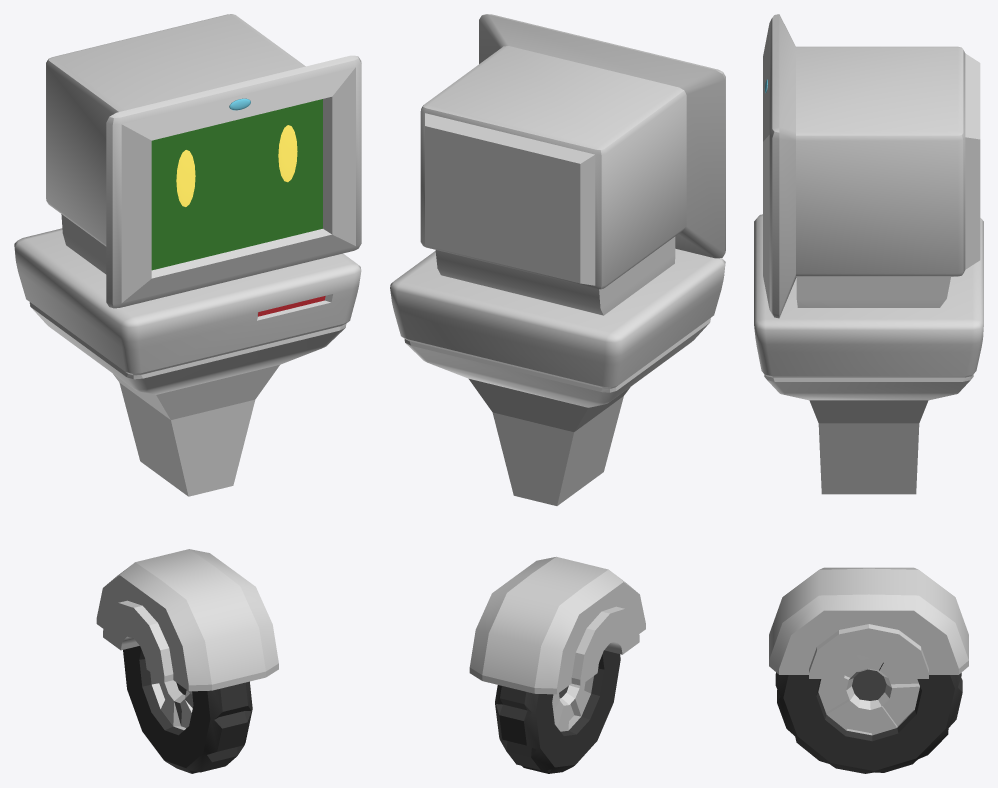
File: playerBot.glb
3 views of the same model, side by side, from view 1: azimuth 30°, elevation 25°; view 2: azimuth 150°, elevation 25°; view 3: azimuth 270°, elevation 25° (orthographic). The views are drawn at different scales.
Visible parts, largest first — view 1: Player Base, Player Wheel Cover, Player Wheel; view 2: Player Base, Player Wheel Cover, Player Wheel; view 3: Player Base, Player Wheel Cover, Player Wheel.
Part boxes in pixels (left/top/right/bottom): Player Base: left=14, top=14, right=361, bottom=496; Player Wheel Cover: left=96, top=549, right=278, bottom=691; Player Wheel: left=123, top=646, right=252, bottom=773; Player Base: left=390, top=14, right=725, bottom=505; Player Wheel Cover: left=469, top=556, right=645, bottom=694; Player Wheel: left=495, top=650, right=620, bottom=773; Player Base: left=754, top=14, right=983, bottom=494; Player Wheel Cover: left=769, top=567, right=968, bottom=678; Player Wheel: left=775, top=658, right=962, bottom=773.
Size of the model in its own units: 0.2657 by 0.7106 by 0.2125.
